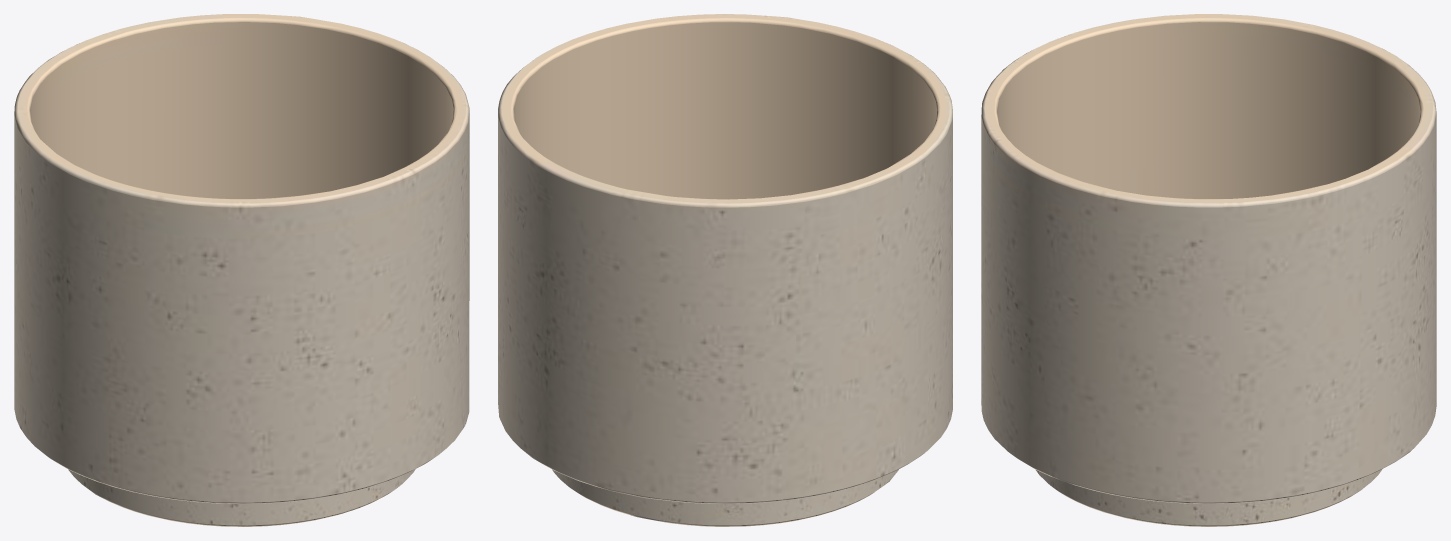
The model's file is sandkorsbar_osonka_doniczki_90621825.glb.
3 views of the same model, side by side, from view 1: azimuth 30°, elevation 25°; view 2: azimuth 150°, elevation 25°; view 3: azimuth 270°, elevation 25° (orthographic).
Parts seen in each view (by area): view 1: sandkorsbar_osonka_doniczki_90621825; view 2: sandkorsbar_osonka_doniczki_90621825; view 3: sandkorsbar_osonka_doniczki_90621825.
Part boxes in pixels (box(x1,y1,x2,y2)): sandkorsbar_osonka_doniczki_90621825: box(14, 14, 469, 526); sandkorsbar_osonka_doniczki_90621825: box(498, 14, 952, 526); sandkorsbar_osonka_doniczki_90621825: box(981, 14, 1436, 526).
Bounding box in the file's own units: 0.1441 × 0.12 × 0.1441.
Materials: 1 (1 with a texture image).
